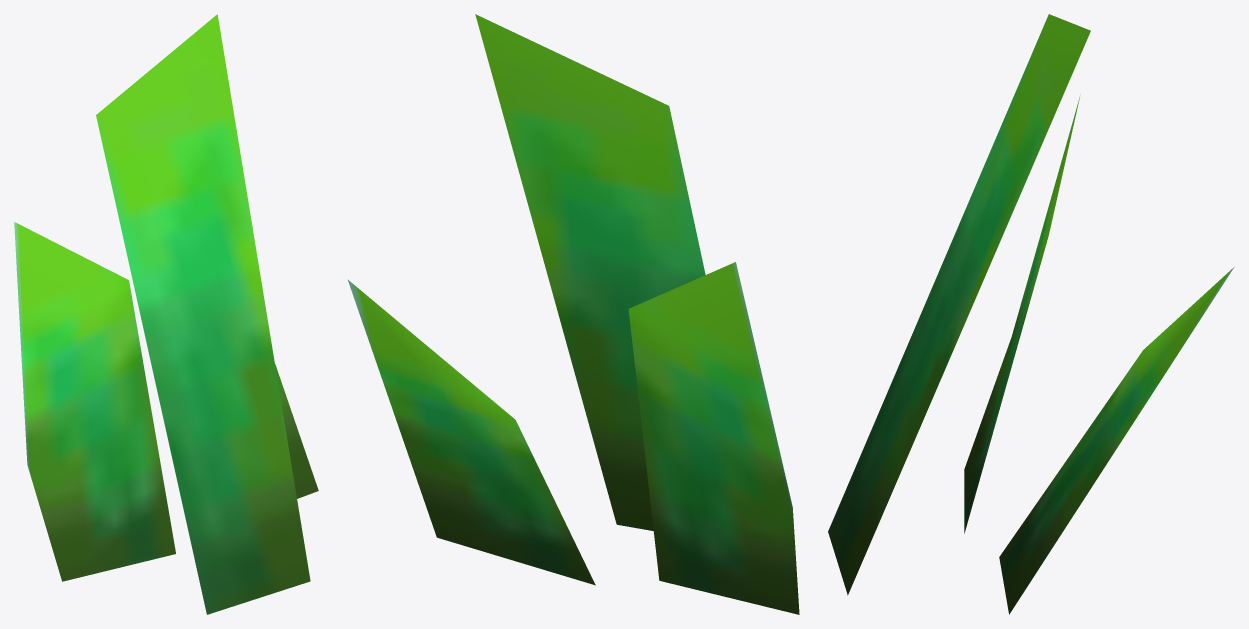
File: fg_grassB.dae
The picture shows the model from 3 angles, left to right: view 1: azimuth 30°, elevation 25°; view 2: azimuth 150°, elevation 25°; view 3: azimuth 270°, elevation 25°; orthographic projection. The views are drawn at different scales.
Visible parts, largest first — view 1: fg_grassB; view 2: fg_grassB; view 3: fg_grassB.
Part boxes in pixels (bbox=[...]): fg_grassB: bbox=[14, 14, 318, 614]; fg_grassB: bbox=[347, 14, 799, 614]; fg_grassB: bbox=[828, 14, 1234, 614].
Bounding box in the file's own units: 13.26 × 21.31 × 13.76.
Materials: 1 (1 with a texture image).
